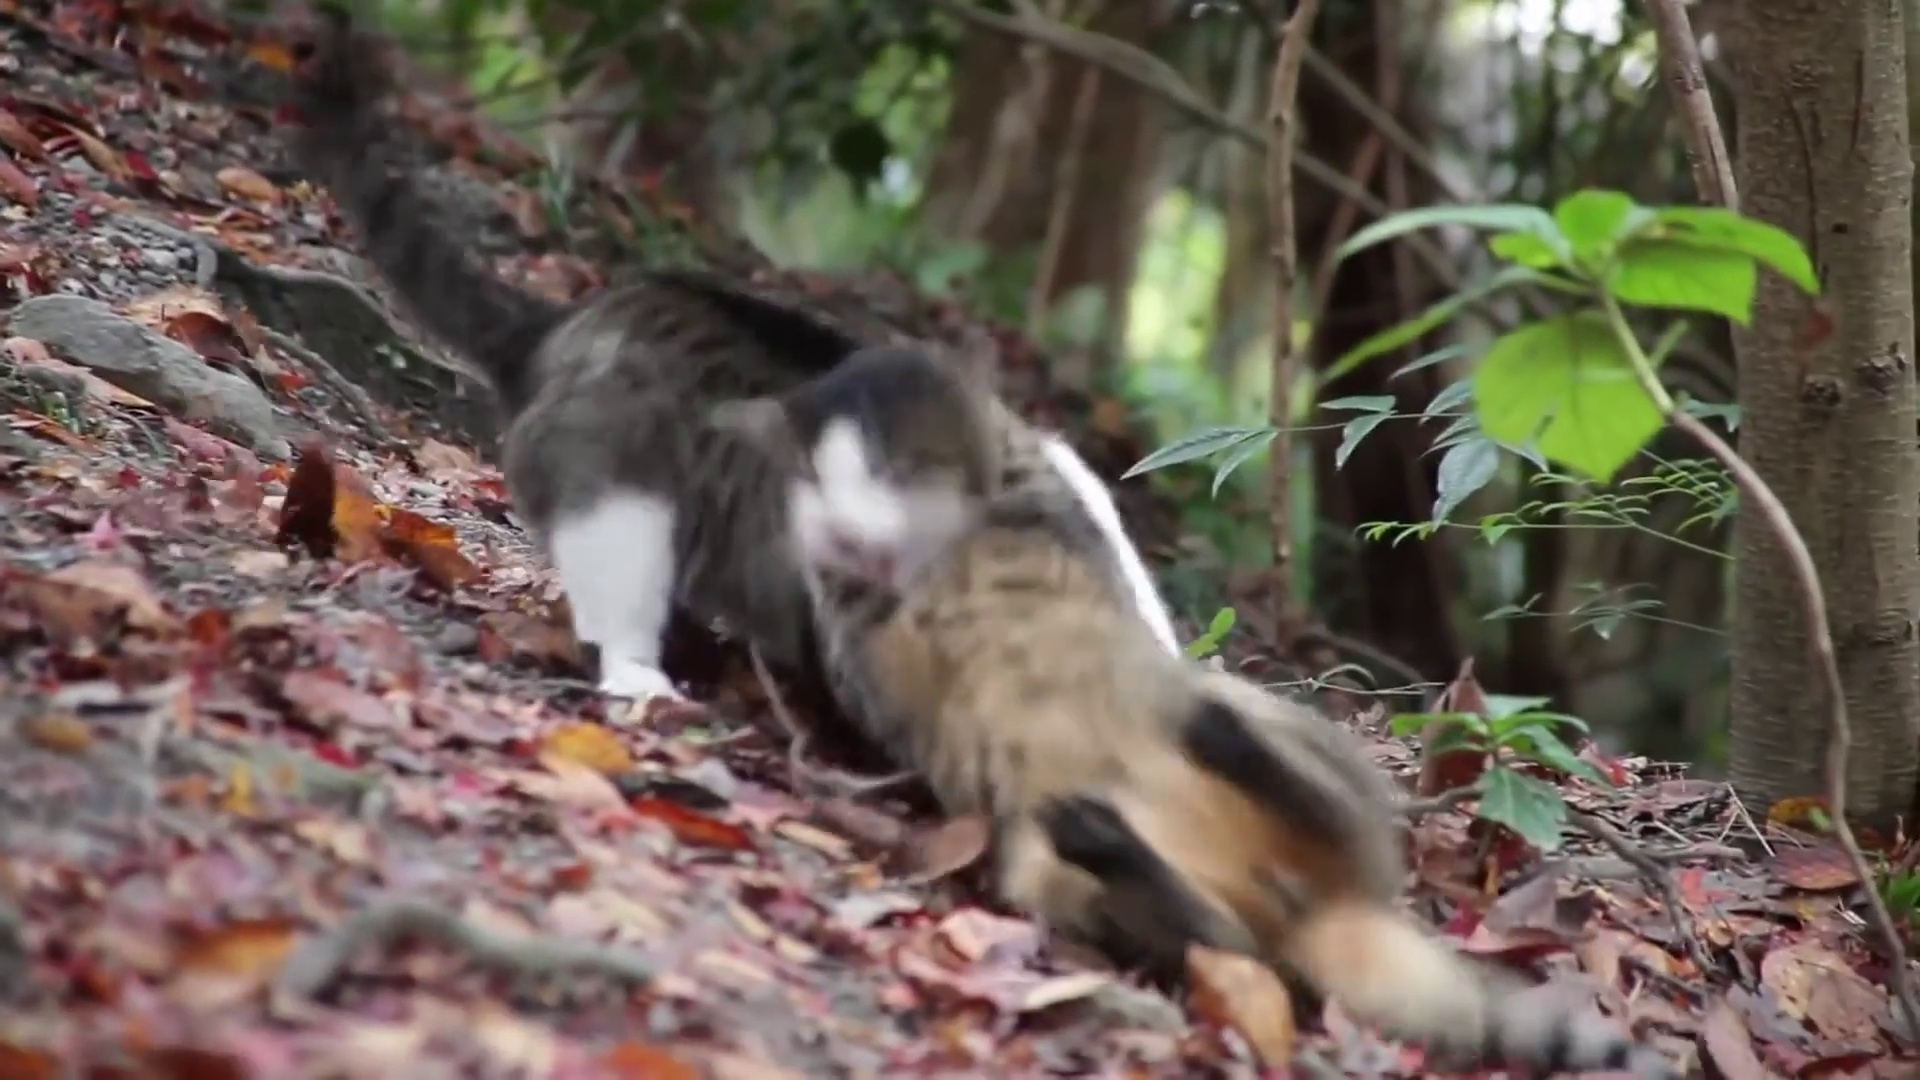black-white: (301, 36, 1058, 698)
pure black: (825, 452, 1633, 1064)
